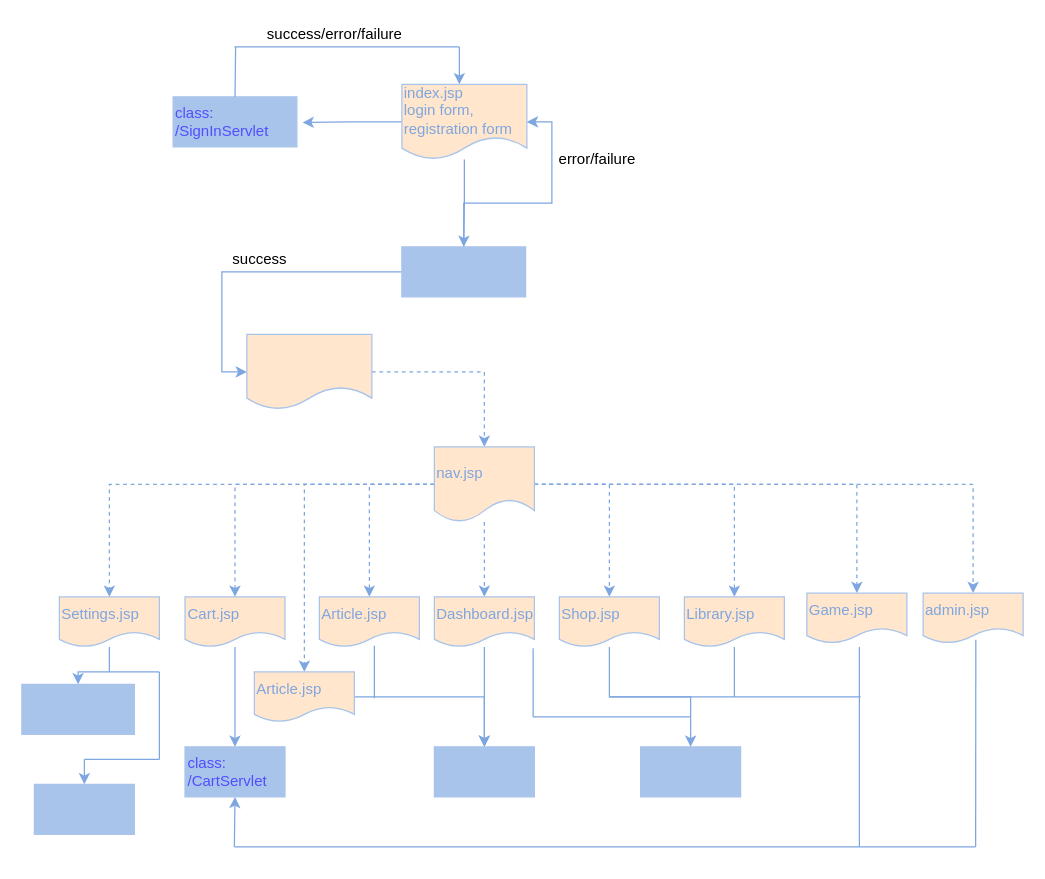
Image size: 1045x879. Some labels were removed from this diagram. The shapes that lost their labels are listed below. From the top down, each one's centre as x and y in pixels, then its label:
At pixel 463 271: "class: /LoginServlet".
At pixel 309 371: "app.jsp".
At pixel 77 708: "class: /SettingsServlet".
At pixel 483 771: "class: /BlogServlet".
At pixel 690 771: "class: /GameServlet".
At pixel 83 808: "class: /UserServlet".
